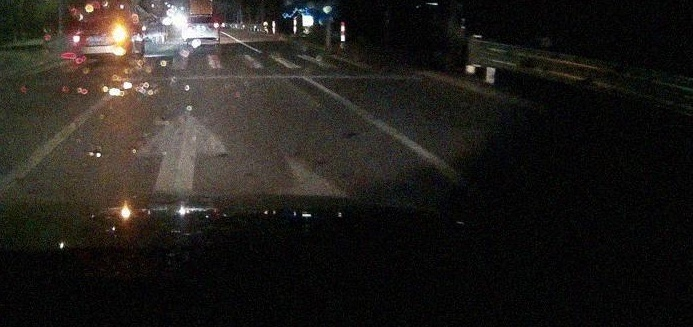L_light: (73, 35, 81, 43), (186, 25, 193, 30)
R_light: (114, 31, 125, 41), (214, 23, 219, 28)
T_light: (102, 17, 109, 20), (199, 17, 204, 19)
night-no: (185, 15, 220, 49)
night-right: (71, 13, 128, 64)
